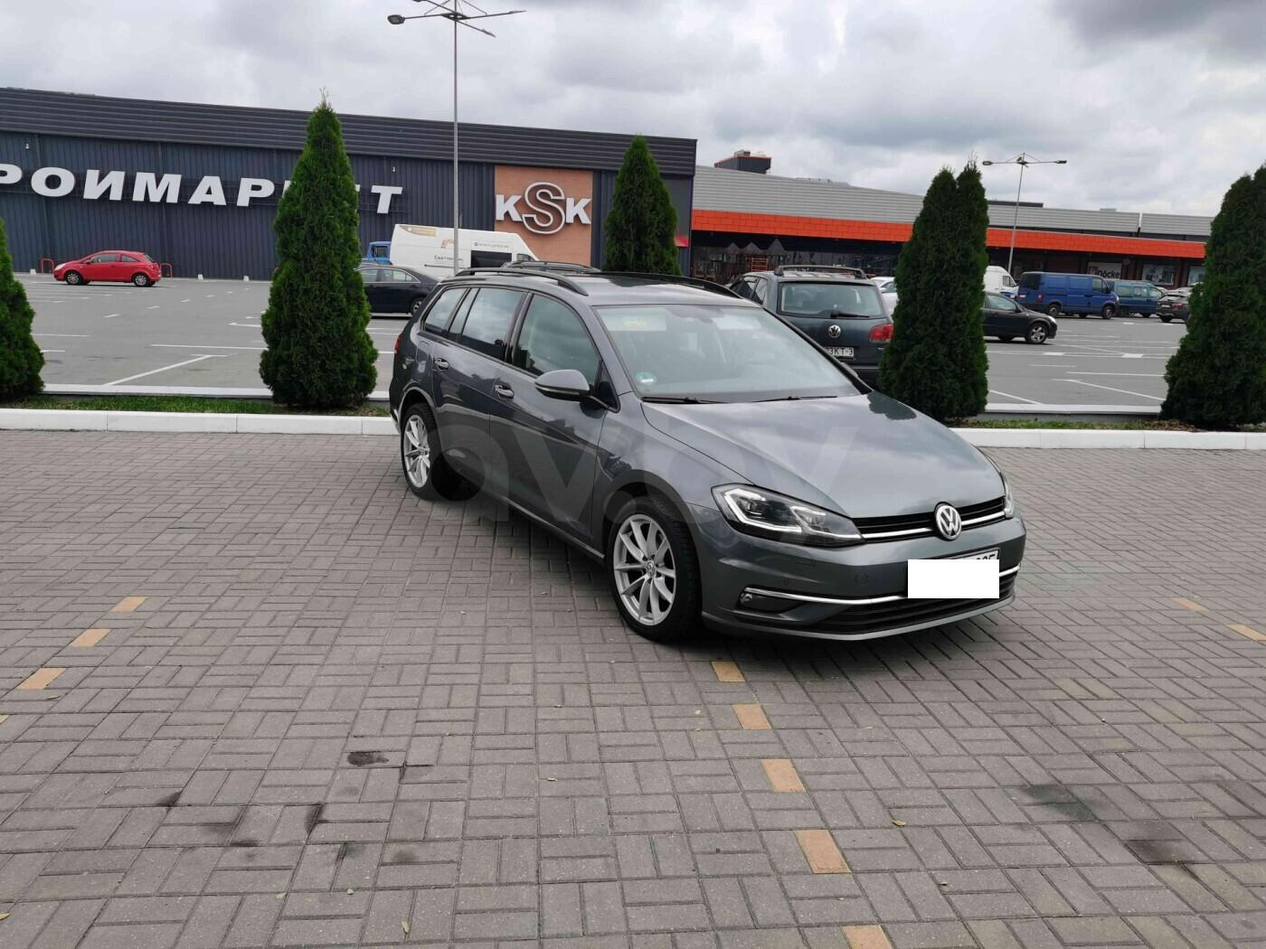Golf_2012-2017: (376, 259, 1032, 649)
